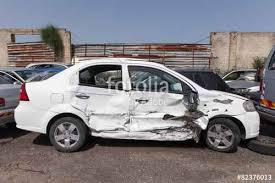doorouter-dent: (130, 92, 198, 144), (72, 90, 127, 137)
fender-dent: (198, 88, 248, 119)
